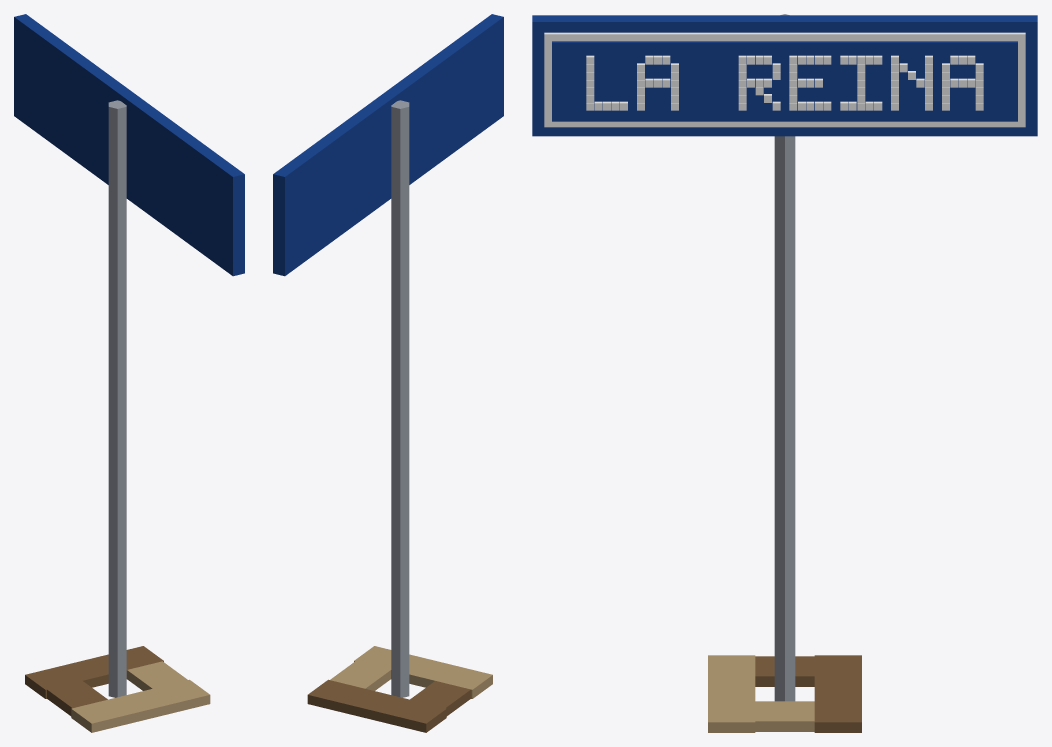
File: letrero_comuna_la_reina.obj
3 renders of one model, left to right at view 1: azimuth 30°, elevation 25°; view 2: azimuth 150°, elevation 25°; view 3: azimuth 270°, elevation 25°, orthographic. The views are drawn at different scales.
Visible parts, largest first — view 1: letrero_comuna_la_reina; view 2: letrero_comuna_la_reina; view 3: letrero_comuna_la_reina.
Part boxes in pixels (x1,y1,x2,y2): letrero_comuna_la_reina: (14,14,244,732); letrero_comuna_la_reina: (273,14,503,732); letrero_comuna_la_reina: (532,14,1037,732).
Bounding box in the file's own units: 0.8 × 3.84 × 2.56.
